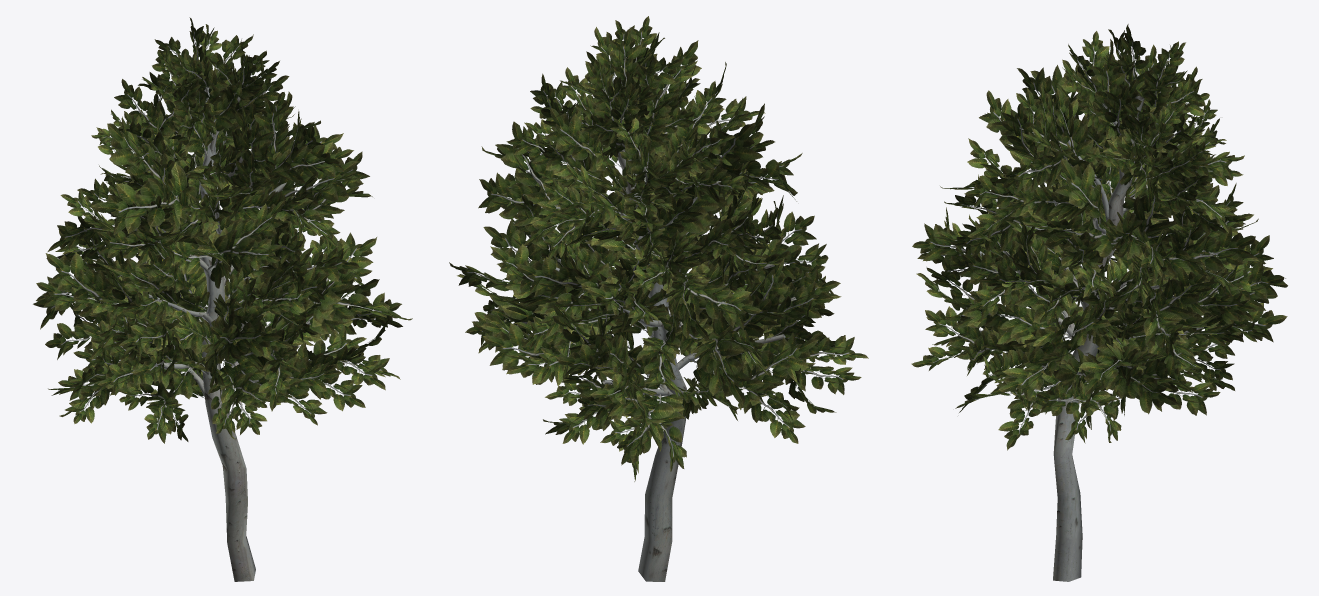
Rendered from SFTreeBirch.fbx.
3 renders of one model, left to right at view 1: azimuth 30°, elevation 25°; view 2: azimuth 150°, elevation 25°; view 3: azimuth 270°, elevation 25°, orthographic. The views are drawn at different scales.
Visible parts, largest first — view 1: TreeBirchGreenLOD0; view 2: TreeBirchGreenLOD0; view 3: TreeBirchGreenLOD0.
Boxes of the visible parts, x1,y1,x2,y2 form: TreeBirchGreenLOD0: [33, 17, 412, 581]; TreeBirchGreenLOD0: [449, 16, 868, 581]; TreeBirchGreenLOD0: [911, 24, 1287, 581].
Size of what is drawn, in the model's own units: 613 by 872 by 576.
2 materials, 2 textured.
